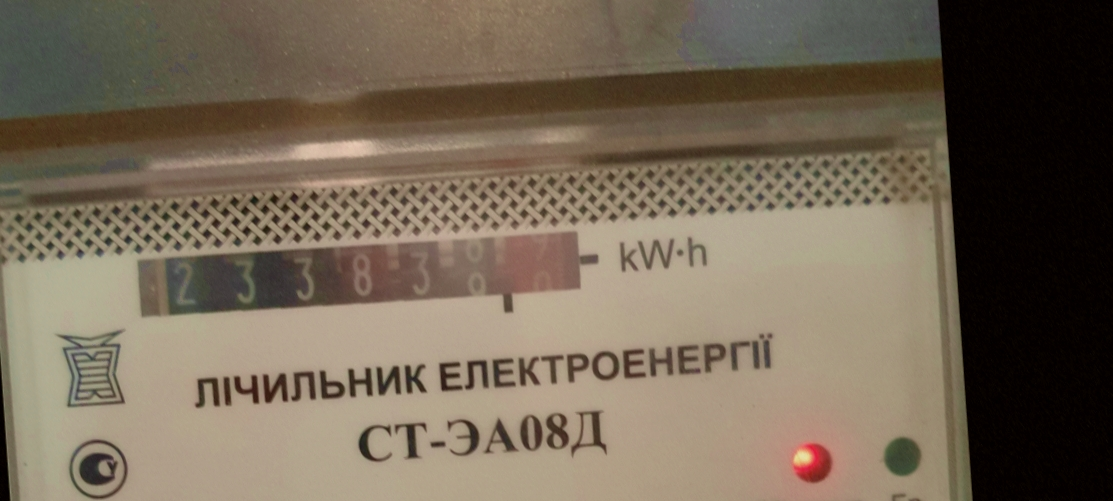0: (530, 264, 557, 291)
2: (169, 256, 200, 306)
3: (230, 253, 261, 305), (292, 251, 319, 303), (407, 245, 435, 295)
8: (349, 248, 376, 295), (461, 234, 490, 263)
9: (463, 265, 491, 296), (528, 229, 554, 259)
screen: (125, 214, 601, 339)
